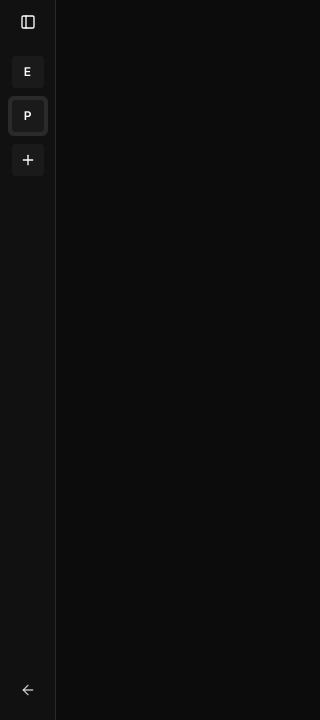
Test: Sidebar Content Migration › AC-5: should expand back to full width with project list
Expected: the element showing "E P" is shown, [0,0,56,719]
# Click the SidebarTrigger to expand
Click the 1st button named "toggle sidebar".
click(28, 22)  # box [14,8,42,36]
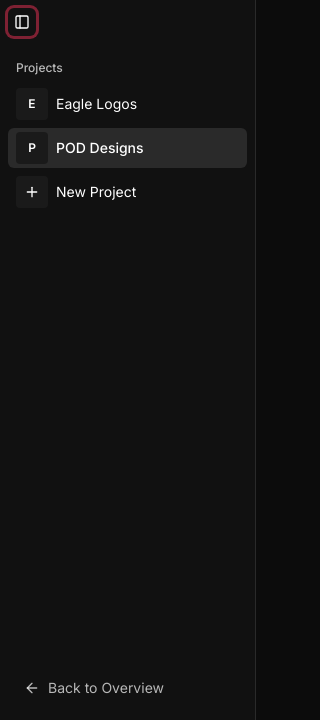
Expected: the list with test id "sidebar-project-list" is shown, [8,84,247,212]
Now the text "Eagle Logos" is shown, box [56,94,137,114]
Now the text "POD Designs" is shown, box [56,138,144,158]
